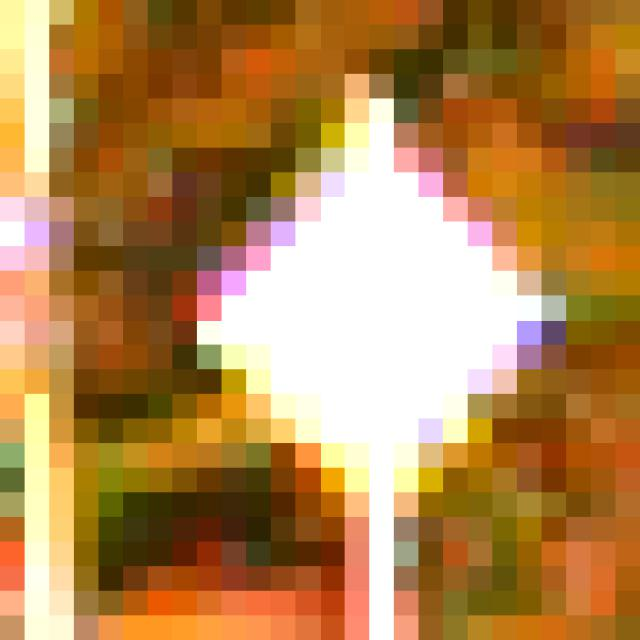Main Road: (149, 124, 518, 518)
